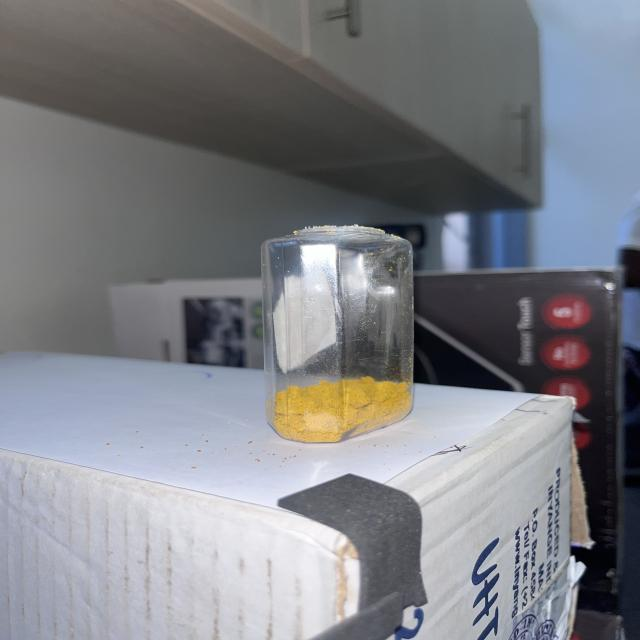curry_powder: (270, 376, 417, 445)
